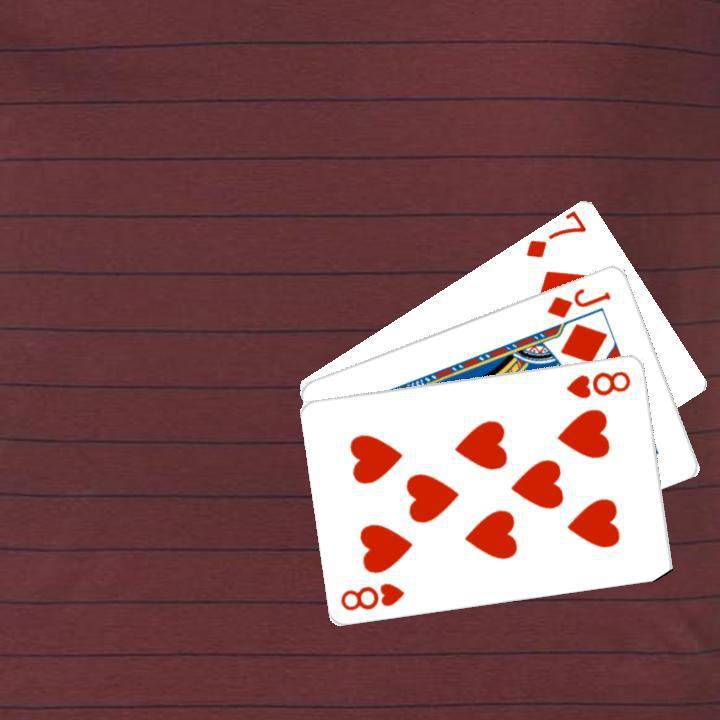7: (521, 208, 589, 260)
8: (562, 365, 633, 400), (336, 578, 407, 612)
J: (542, 283, 613, 320)
